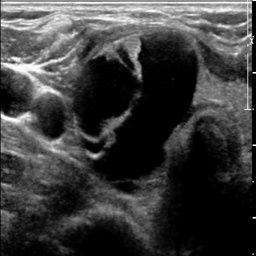mass: (78, 27, 198, 187)
